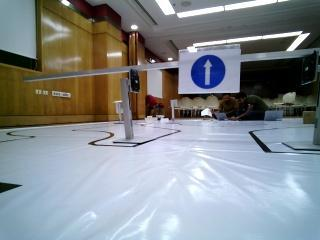straight: (181, 50, 240, 90)
